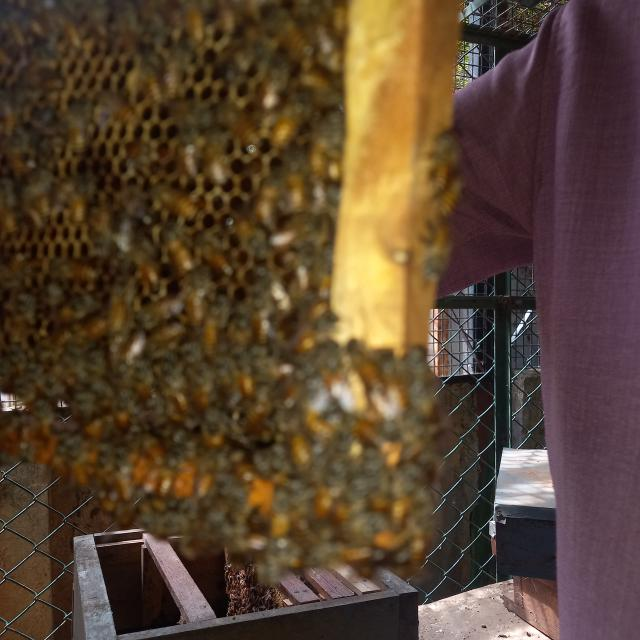honeybee: (268, 96, 308, 157), (152, 183, 198, 225), (346, 341, 380, 397), (422, 219, 452, 280), (96, 90, 140, 131), (222, 104, 262, 148), (38, 256, 98, 284), (430, 129, 458, 188), (200, 243, 240, 279), (380, 356, 409, 404), (166, 230, 198, 273), (128, 261, 168, 295), (66, 106, 89, 161), (435, 175, 459, 226), (412, 378, 438, 424), (409, 355, 423, 374)
